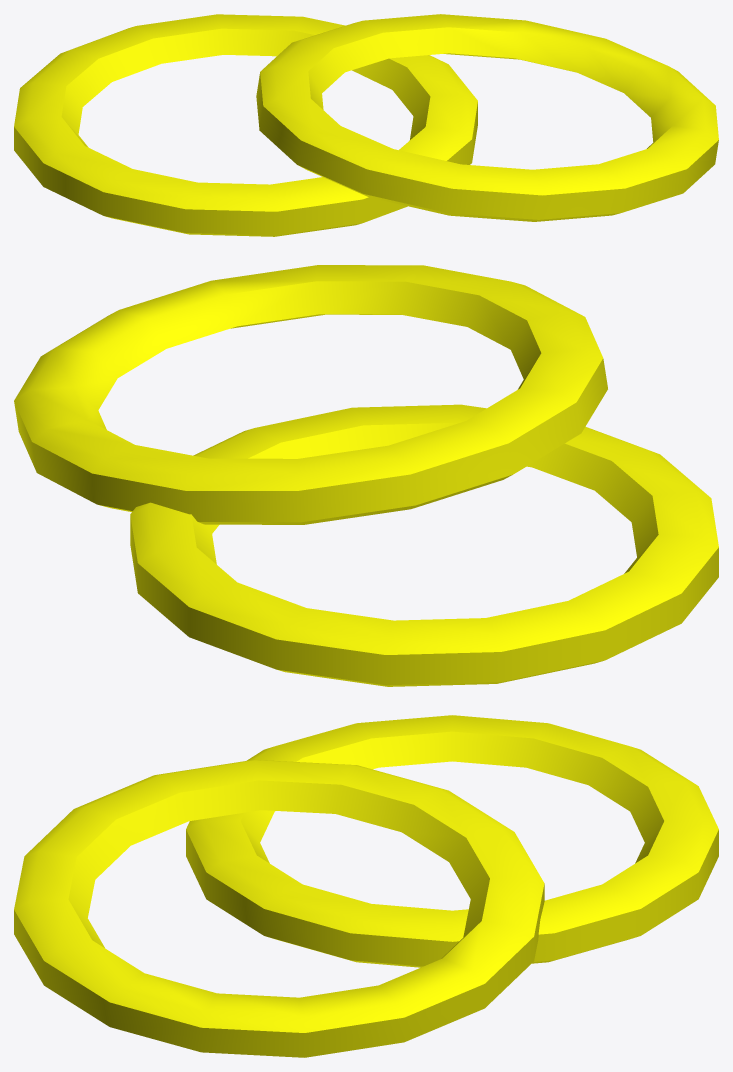
The model's file is kaykit-food-ingredient-onion-rings.glb.
3 renders of one model, top to bottom at view 1: azimuth 30°, elevation 25°; view 2: azimuth 150°, elevation 25°; view 3: azimuth 270°, elevation 25°, orthographic. The views are drawn at different scales.
Parts seen in each view (by area): view 1: food_ingredient_onion_rings; view 2: food_ingredient_onion_rings; view 3: food_ingredient_onion_rings.
Boxes of the visible parts, left/top/right/bottom form: food_ingredient_onion_rings: left=14, top=14, right=718, bottom=236; food_ingredient_onion_rings: left=14, top=265, right=718, bottom=686; food_ingredient_onion_rings: left=14, top=715, right=718, bottom=1057.
Bounding box in the file's own units: 0.7758 × 0.1063 × 0.7296.
